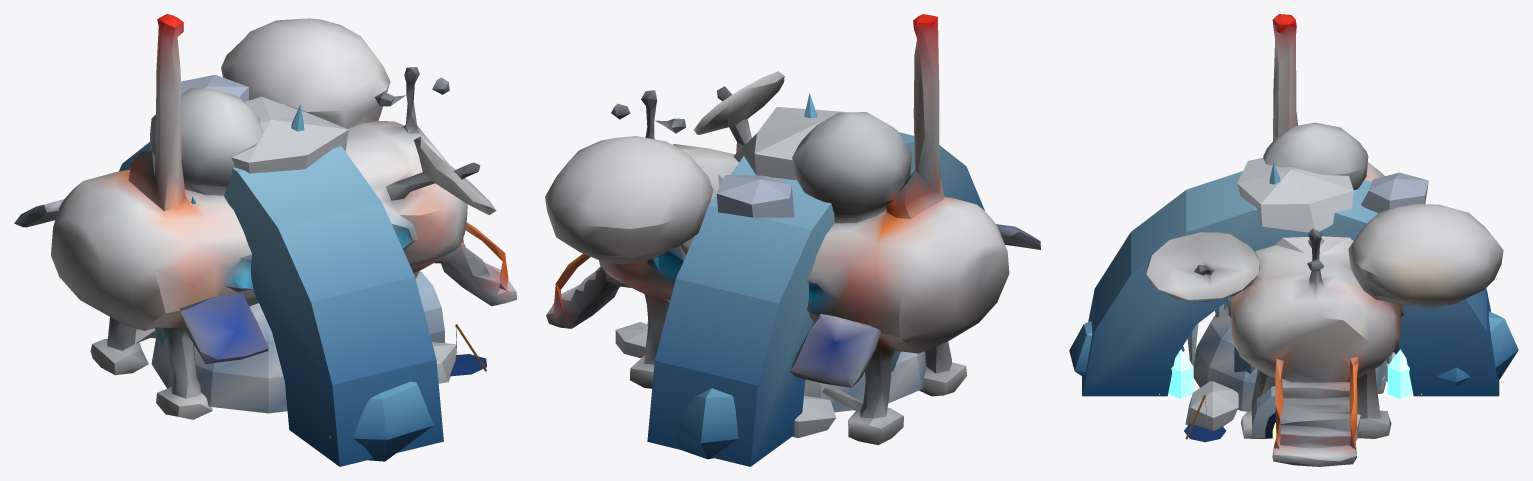
Rendered from scenery-glacier.glb.
3 renders of one model, left to right at view 1: azimuth 30°, elevation 25°; view 2: azimuth 150°, elevation 25°; view 3: azimuth 270°, elevation 25°, orthographic. The views are drawn at different scales.
Visible parts, largest first — view 1: prop-research_station, prop-ice_arch, prop-igloo; view 2: prop-research_station, prop-ice_arch, prop-igloo; view 3: prop-research_station, prop-ice_arch, prop-igloo.
Boxes of the visible parts, x1,y1,x2,y2 form: prop-research_station: [14, 14, 516, 419]; prop-ice_arch: [119, 74, 443, 466]; prop-igloo: [136, 271, 486, 413]; prop-research_station: [545, 14, 1040, 445]; prop-ice_arch: [647, 107, 984, 466]; prop-igloo: [615, 320, 926, 437]; prop-research_station: [1146, 14, 1503, 466]; prop-ice_arch: [1069, 157, 1518, 398]; prop-igloo: [1184, 301, 1395, 442].
Bounding box in the file's own units: 15.65 × 13.94 × 16.81.
